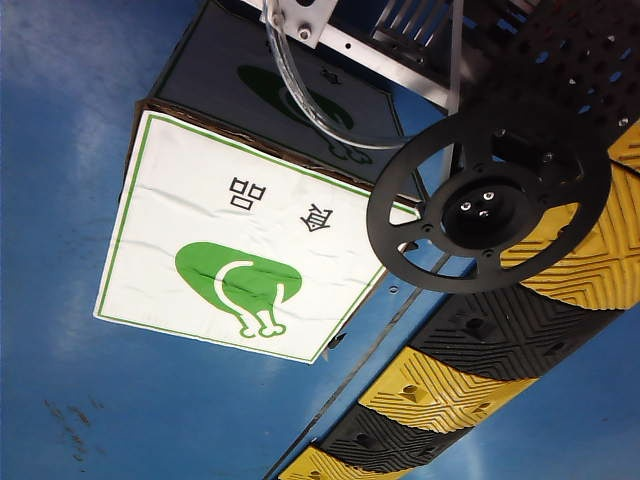Cube_food: (166, 167, 345, 344)
